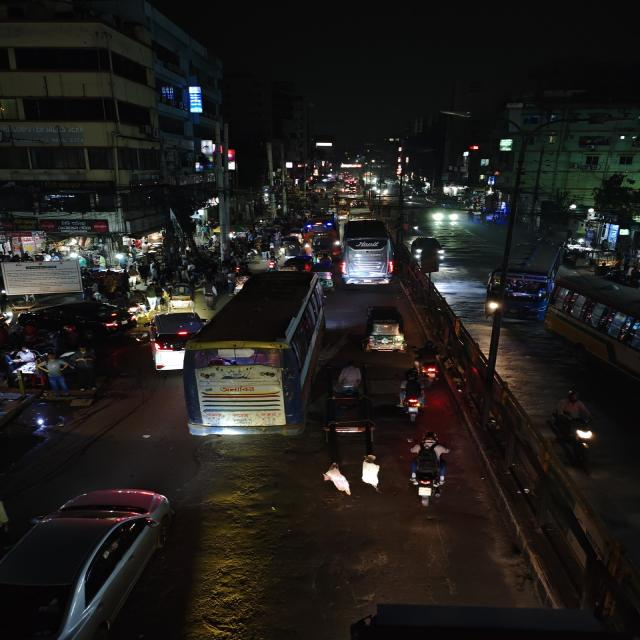bus: (184, 272, 329, 439), (546, 272, 640, 384), (337, 218, 398, 288), (482, 262, 550, 324), (482, 262, 550, 323)
car: (1, 484, 183, 640), (10, 299, 135, 339), (142, 309, 202, 375), (409, 234, 448, 262)
cng: (362, 303, 409, 355)
motorcycle: (547, 387, 601, 461), (406, 433, 453, 508), (394, 370, 426, 422), (410, 338, 444, 382)
pedestrian: (321, 459, 354, 501), (358, 453, 388, 493), (143, 282, 165, 312)
rickshaw: (314, 382, 382, 450), (163, 282, 199, 312)
